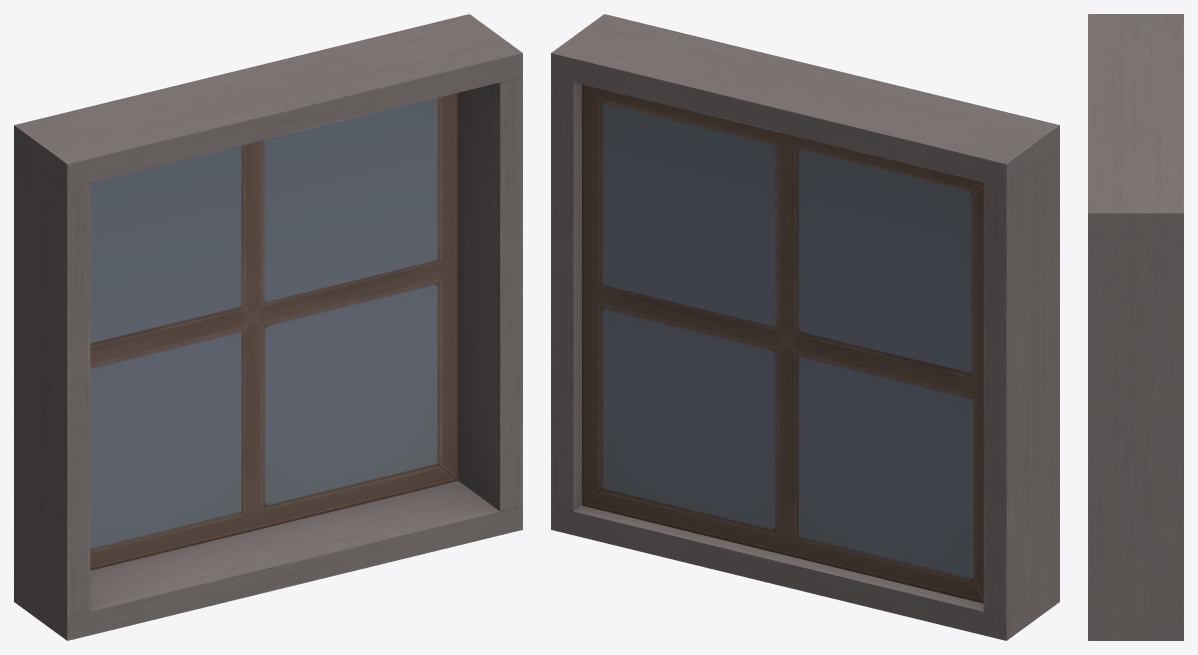
Rendered from P_Window_021_S1_M02.obj.
The picture shows the model from 3 angles, left to right: view 1: azimuth 30°, elevation 25°; view 2: azimuth 150°, elevation 25°; view 3: azimuth 270°, elevation 25°; orthographic projection. The views are drawn at different scales.
Size of the model in its own units: 2 by 2 by 0.406.
1 material, 1 textured.
